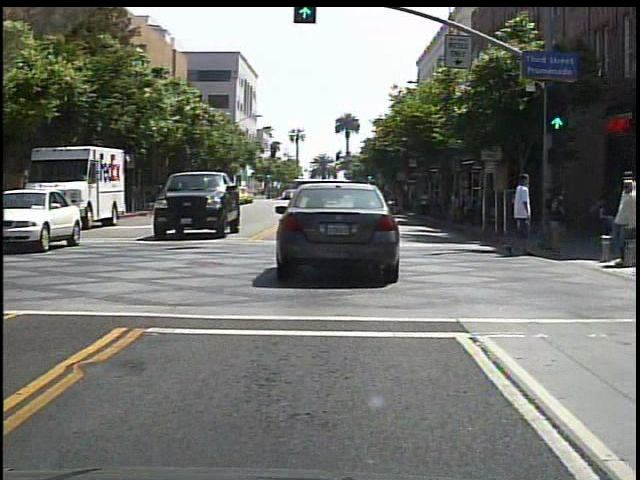person: (505, 160, 542, 258), (610, 167, 640, 270), (415, 187, 434, 219), (550, 174, 551, 256)
